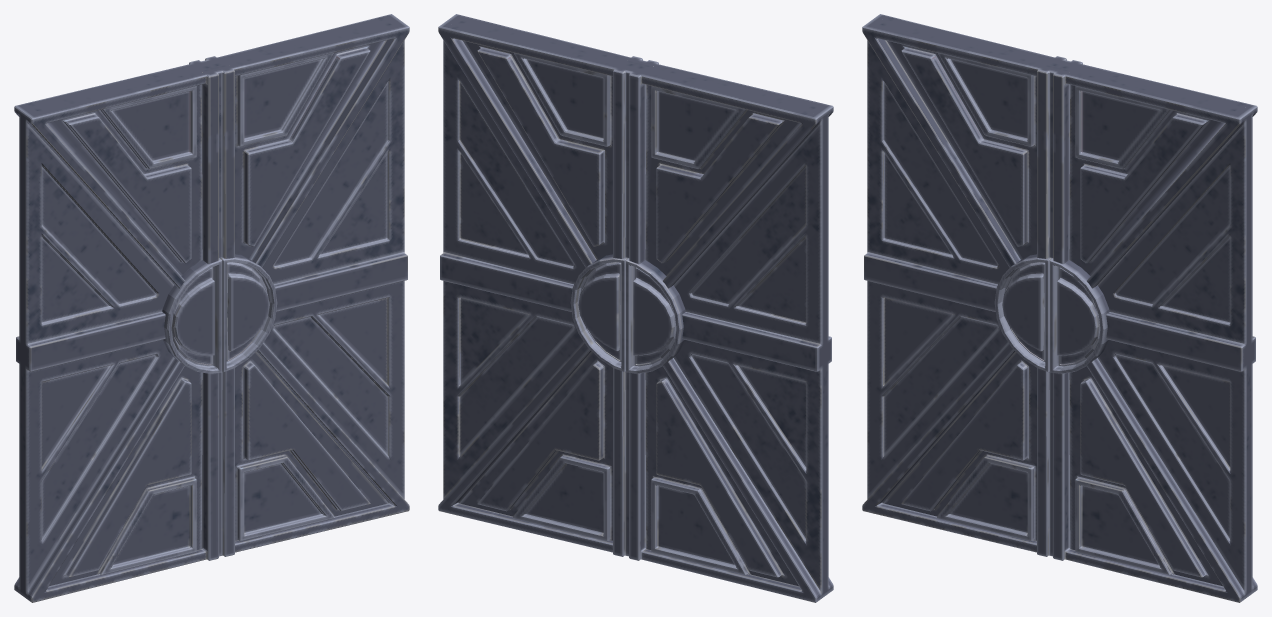
The model's file is DoorAnim (2).fbx.
3 renders of one model, left to right at view 1: azimuth 30°, elevation 25°; view 2: azimuth 150°, elevation 25°; view 3: azimuth 330°, elevation 25°, orthographic.
Visible parts, largest first — view 1: DoorDocks; view 2: DoorDocks; view 3: DoorDocks.
Part boxes in pixels (box(x1,y1,x2,y2)): DoorDocks: box(14, 14, 409, 602); DoorDocks: box(438, 14, 833, 602); DoorDocks: box(862, 14, 1257, 602).
Bounding box in the file's own units: 195 × 239 × 19.62.
